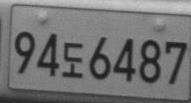3: (112, 37, 136, 82)
4: (36, 32, 60, 77)
6: (88, 36, 111, 80)
7: (164, 40, 188, 84)
8: (138, 38, 161, 83)
9: (13, 30, 35, 73)
도: (62, 41, 83, 78)
